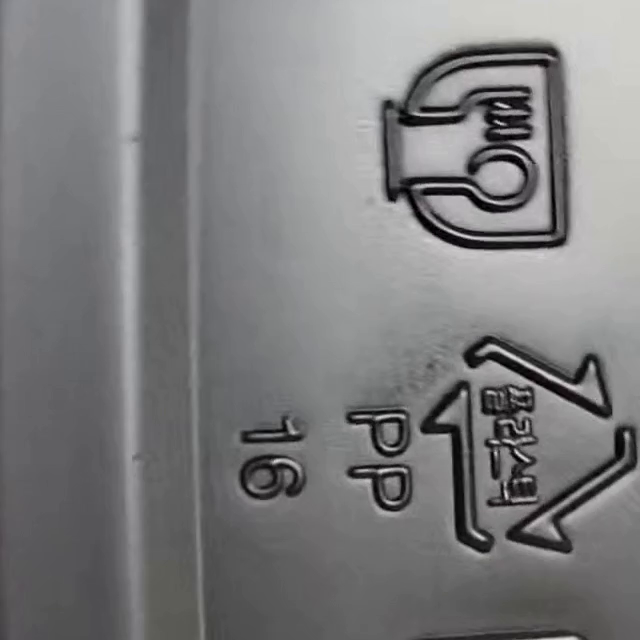Plastic: (419, 332, 639, 556)
